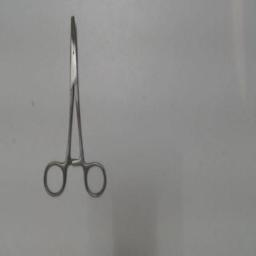Crile Artery Forceps: (41, 12, 111, 200)
